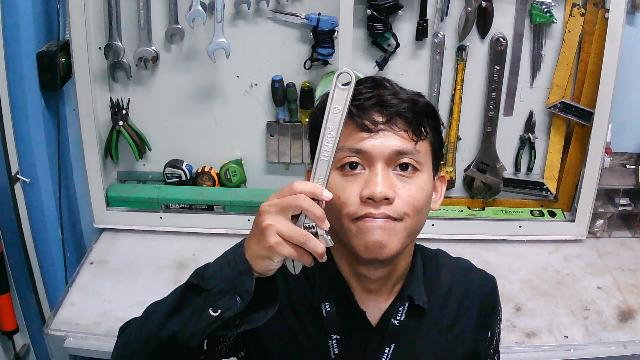kunci_inggris: (278, 65, 357, 276)
